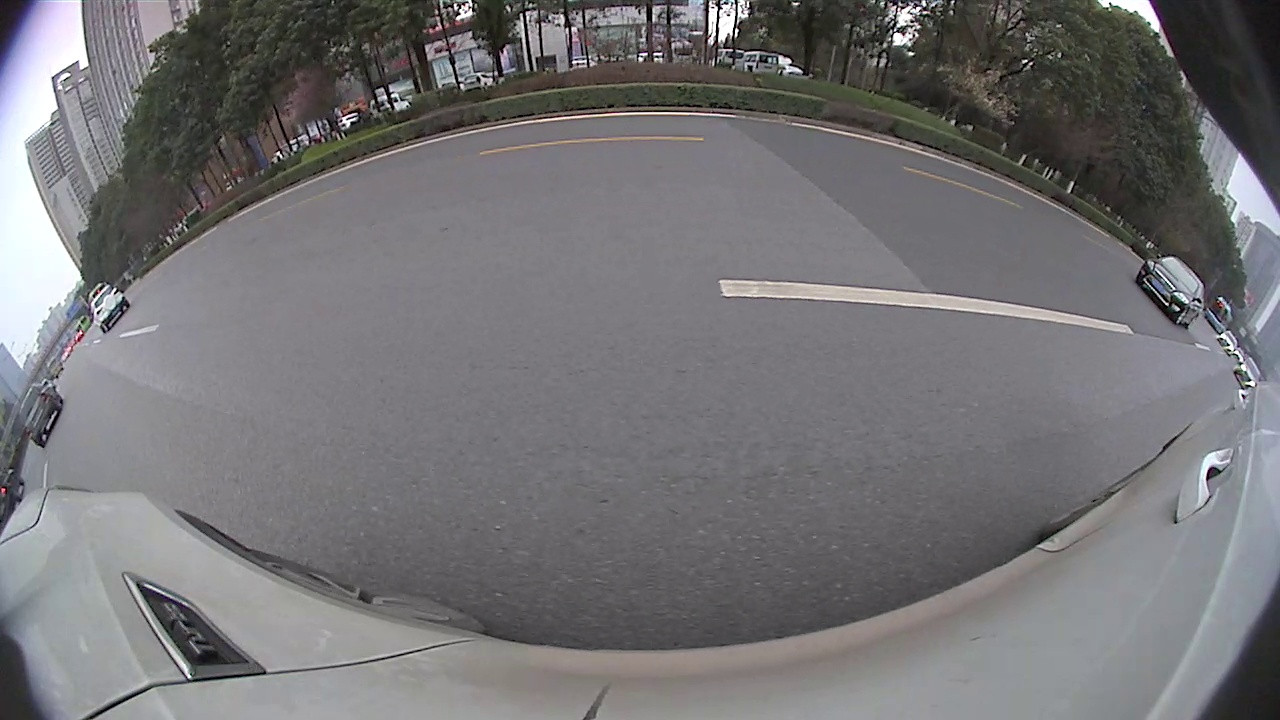car: (1135, 254, 1206, 329), (16, 383, 64, 449), (86, 281, 131, 335)
